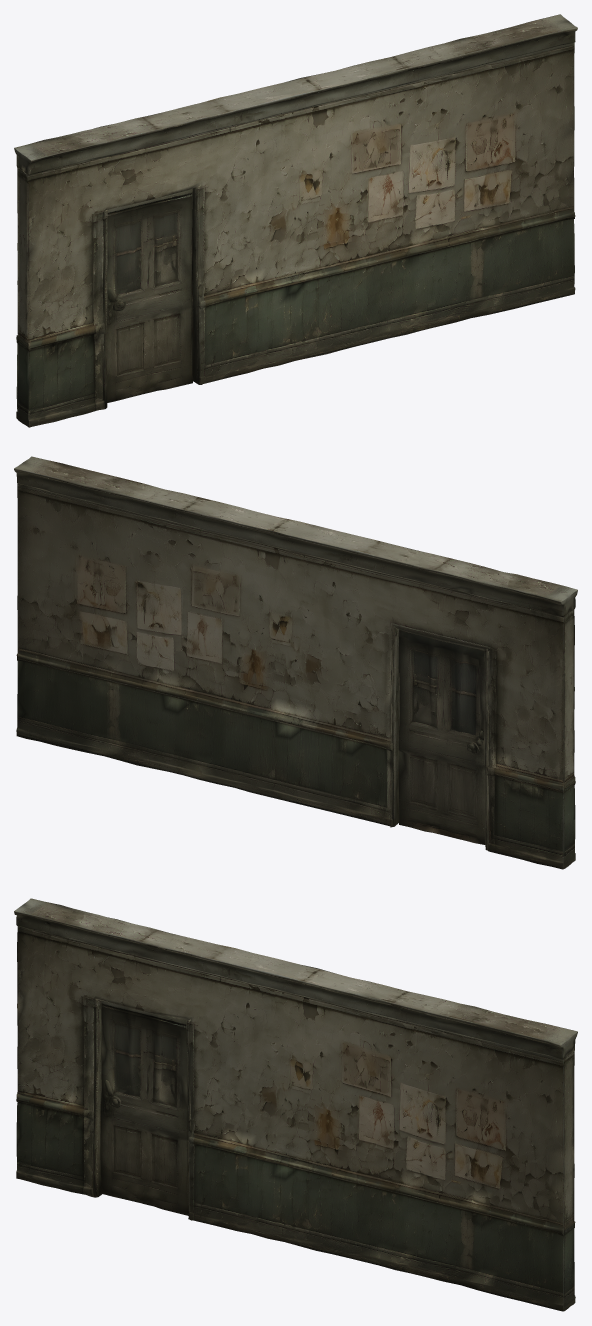
The model's file is wall1.fbx.
3 renders of one model, top to bottom at view 1: azimuth 30°, elevation 25°; view 2: azimuth 150°, elevation 25°; view 3: azimuth 330°, elevation 25°, orthographic.
Visible parts, largest first — view 1: wall1; view 2: wall1; view 3: wall1.
Boxes of the visible parts, x1=… form: wall1: x1=14, y1=14, x2=577, y2=427; wall1: x1=14, y1=456, x2=577, y2=869; wall1: x1=14, y1=898, x2=577, y2=1311.
Bounding box in the file's own units: 1114 × 528 × 62.67.
Materials: 1 (1 with a texture image).
